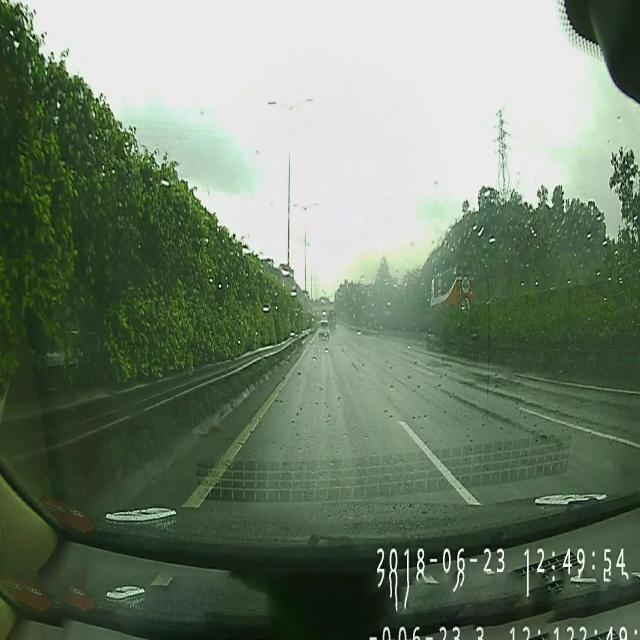car: (316, 319, 331, 339)
